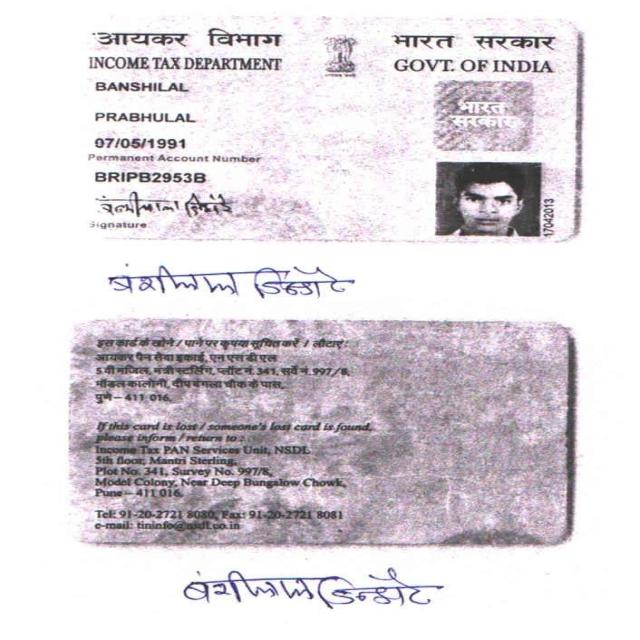pan_card: (74, 21, 579, 245), (64, 324, 572, 545)
